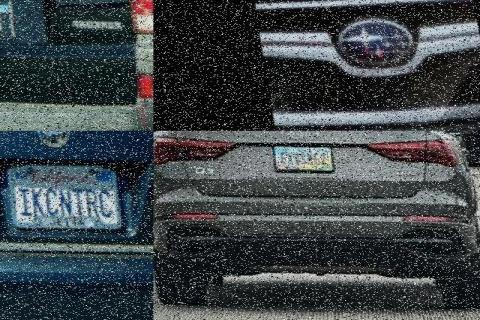LicensePlate: (0, 163, 116, 229), (265, 144, 328, 174), (0, 0, 34, 37)
